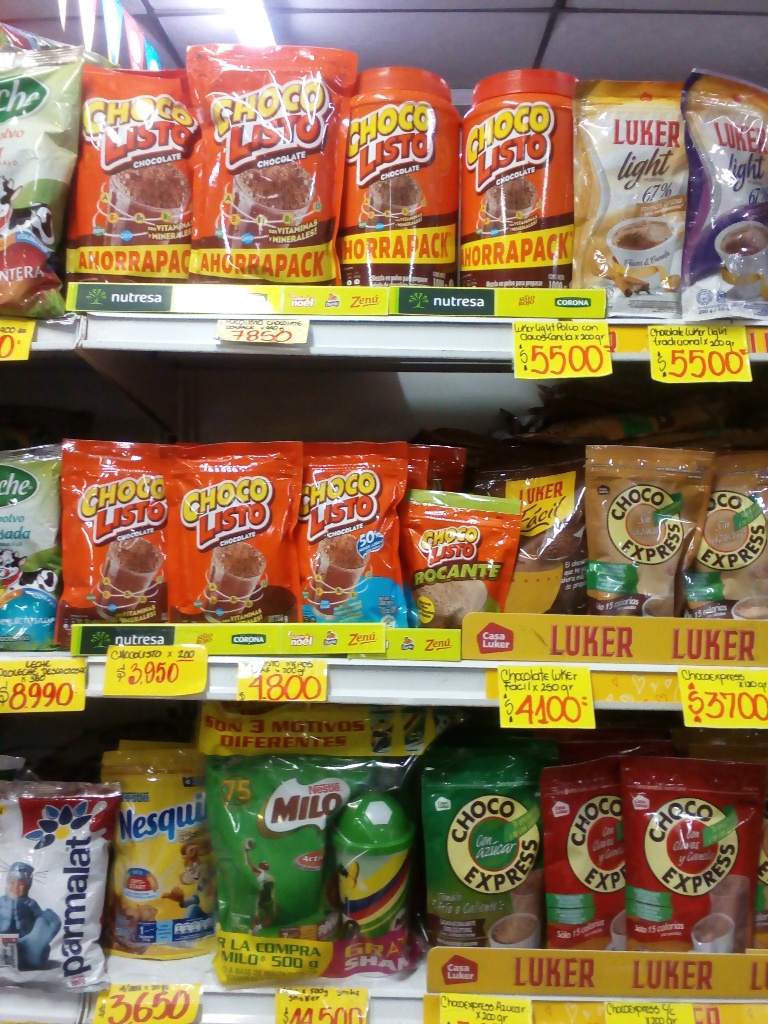COL0170102DYP10000: (410, 491, 507, 626)
COL0170103DYP1,500: (68, 55, 197, 282)
COL0170103DYP20000: (64, 440, 168, 625)
COL0170103TRR00100: (347, 56, 458, 285)
COL0170104DYP20000: (298, 442, 408, 623)
COL0170203DYP50000: (207, 722, 331, 984)
COL0170303DYP20000: (107, 741, 208, 987)
